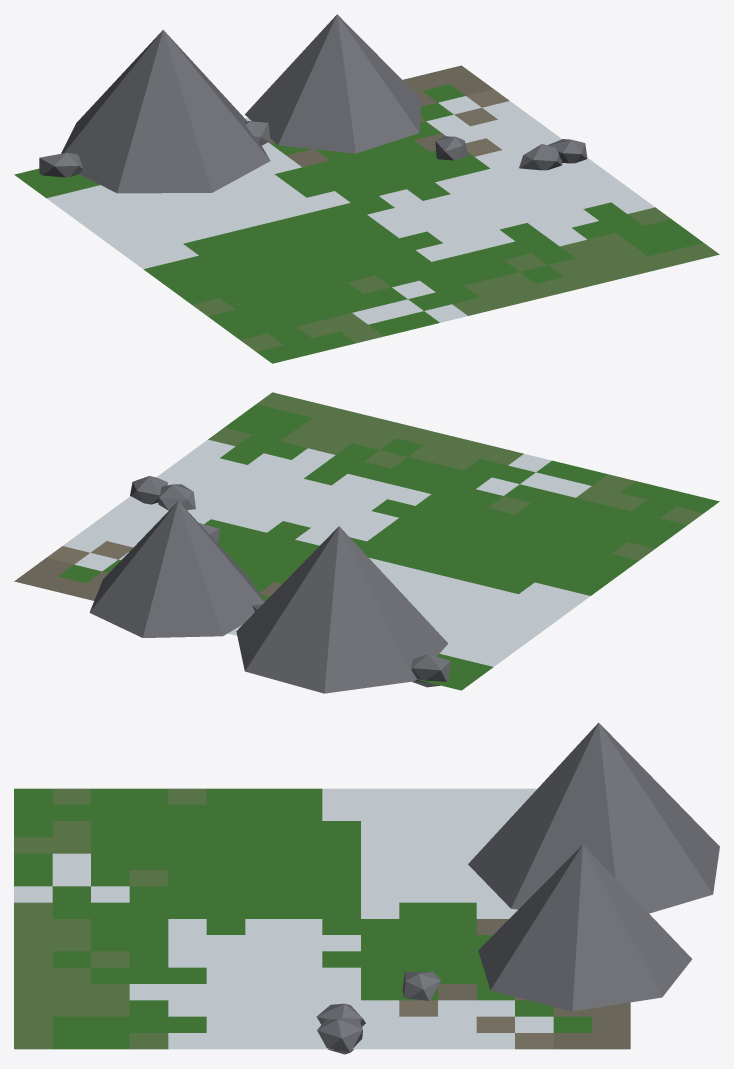
File: chunk_5_1.glb
The picture shows the model from 3 angles, top to bottom: view 1: azimuth 30°, elevation 25°; view 2: azimuth 150°, elevation 25°; view 3: azimuth 270°, elevation 25°; orthographic projection. The views are drawn at different scales.
Parts seen in each view (by area): view 1: chunk_5_1; view 2: chunk_5_1; view 3: chunk_5_1.
Boxes of the visible parts, x1,y1,x2,y2 form: chunk_5_1: [14, 14, 719, 363]; chunk_5_1: [14, 392, 719, 693]; chunk_5_1: [14, 722, 719, 1054].
Bounding box in the file's own units: 16.09 × 4.63 × 18.32.
